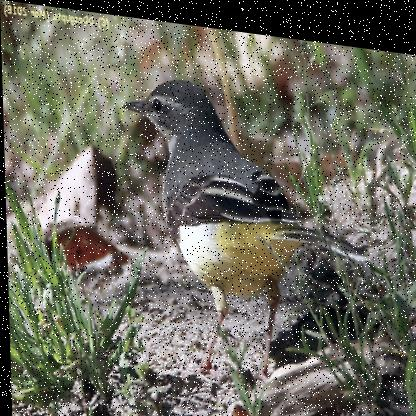Burung: (120, 68, 360, 384)
